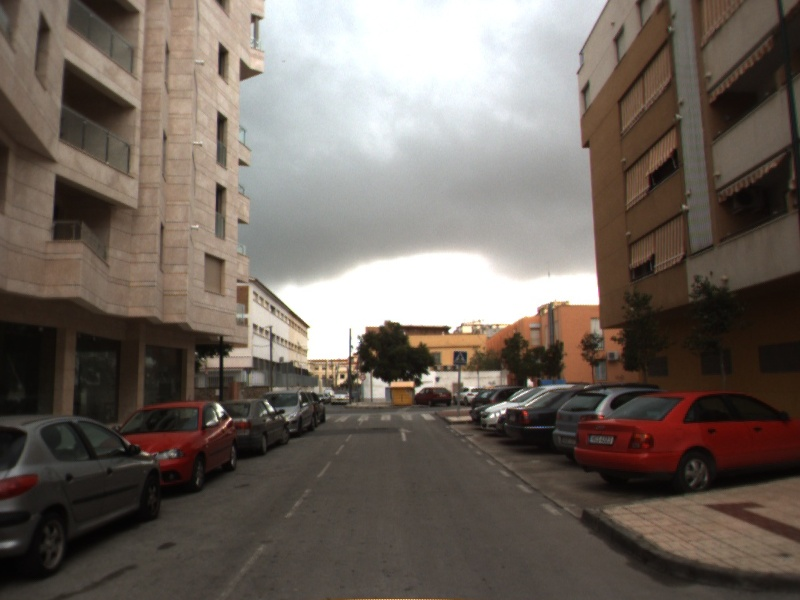STRAIGHT: (394, 425, 415, 443)
